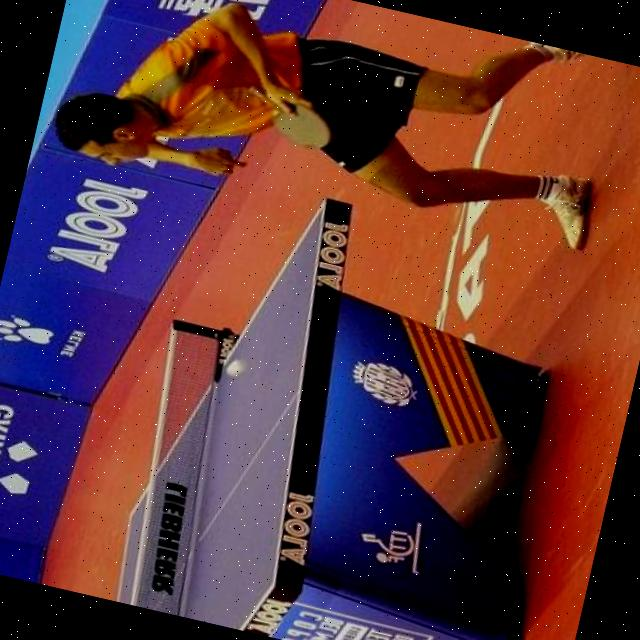ping-pong-ball: (223, 355, 250, 379)
